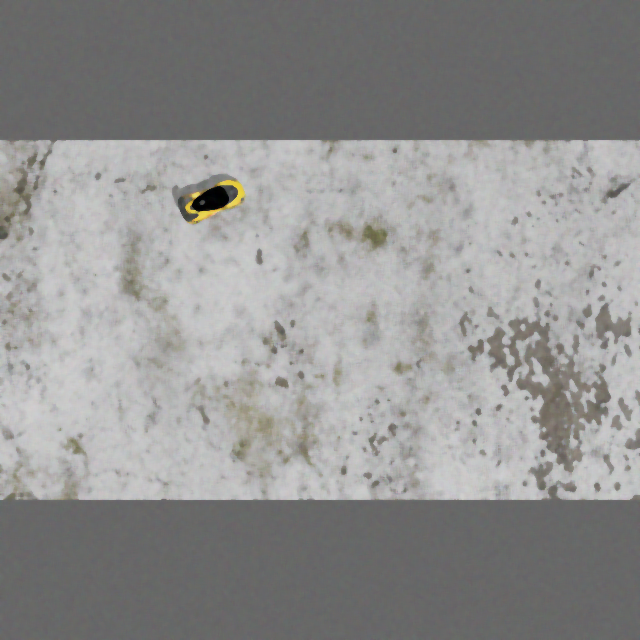car: (174, 171, 250, 227)
